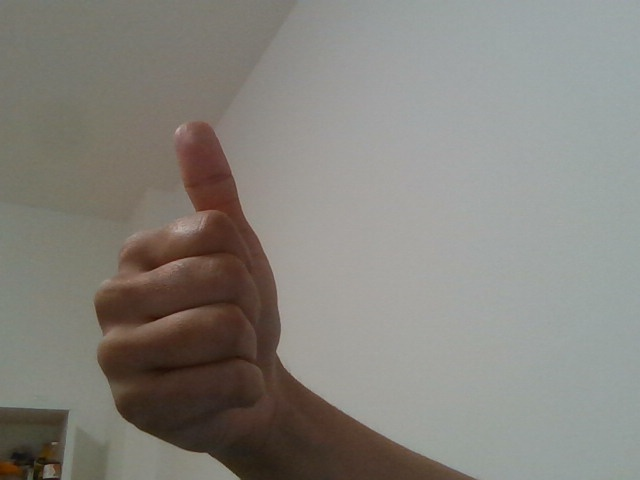Thumbs up: (62, 113, 336, 459)
